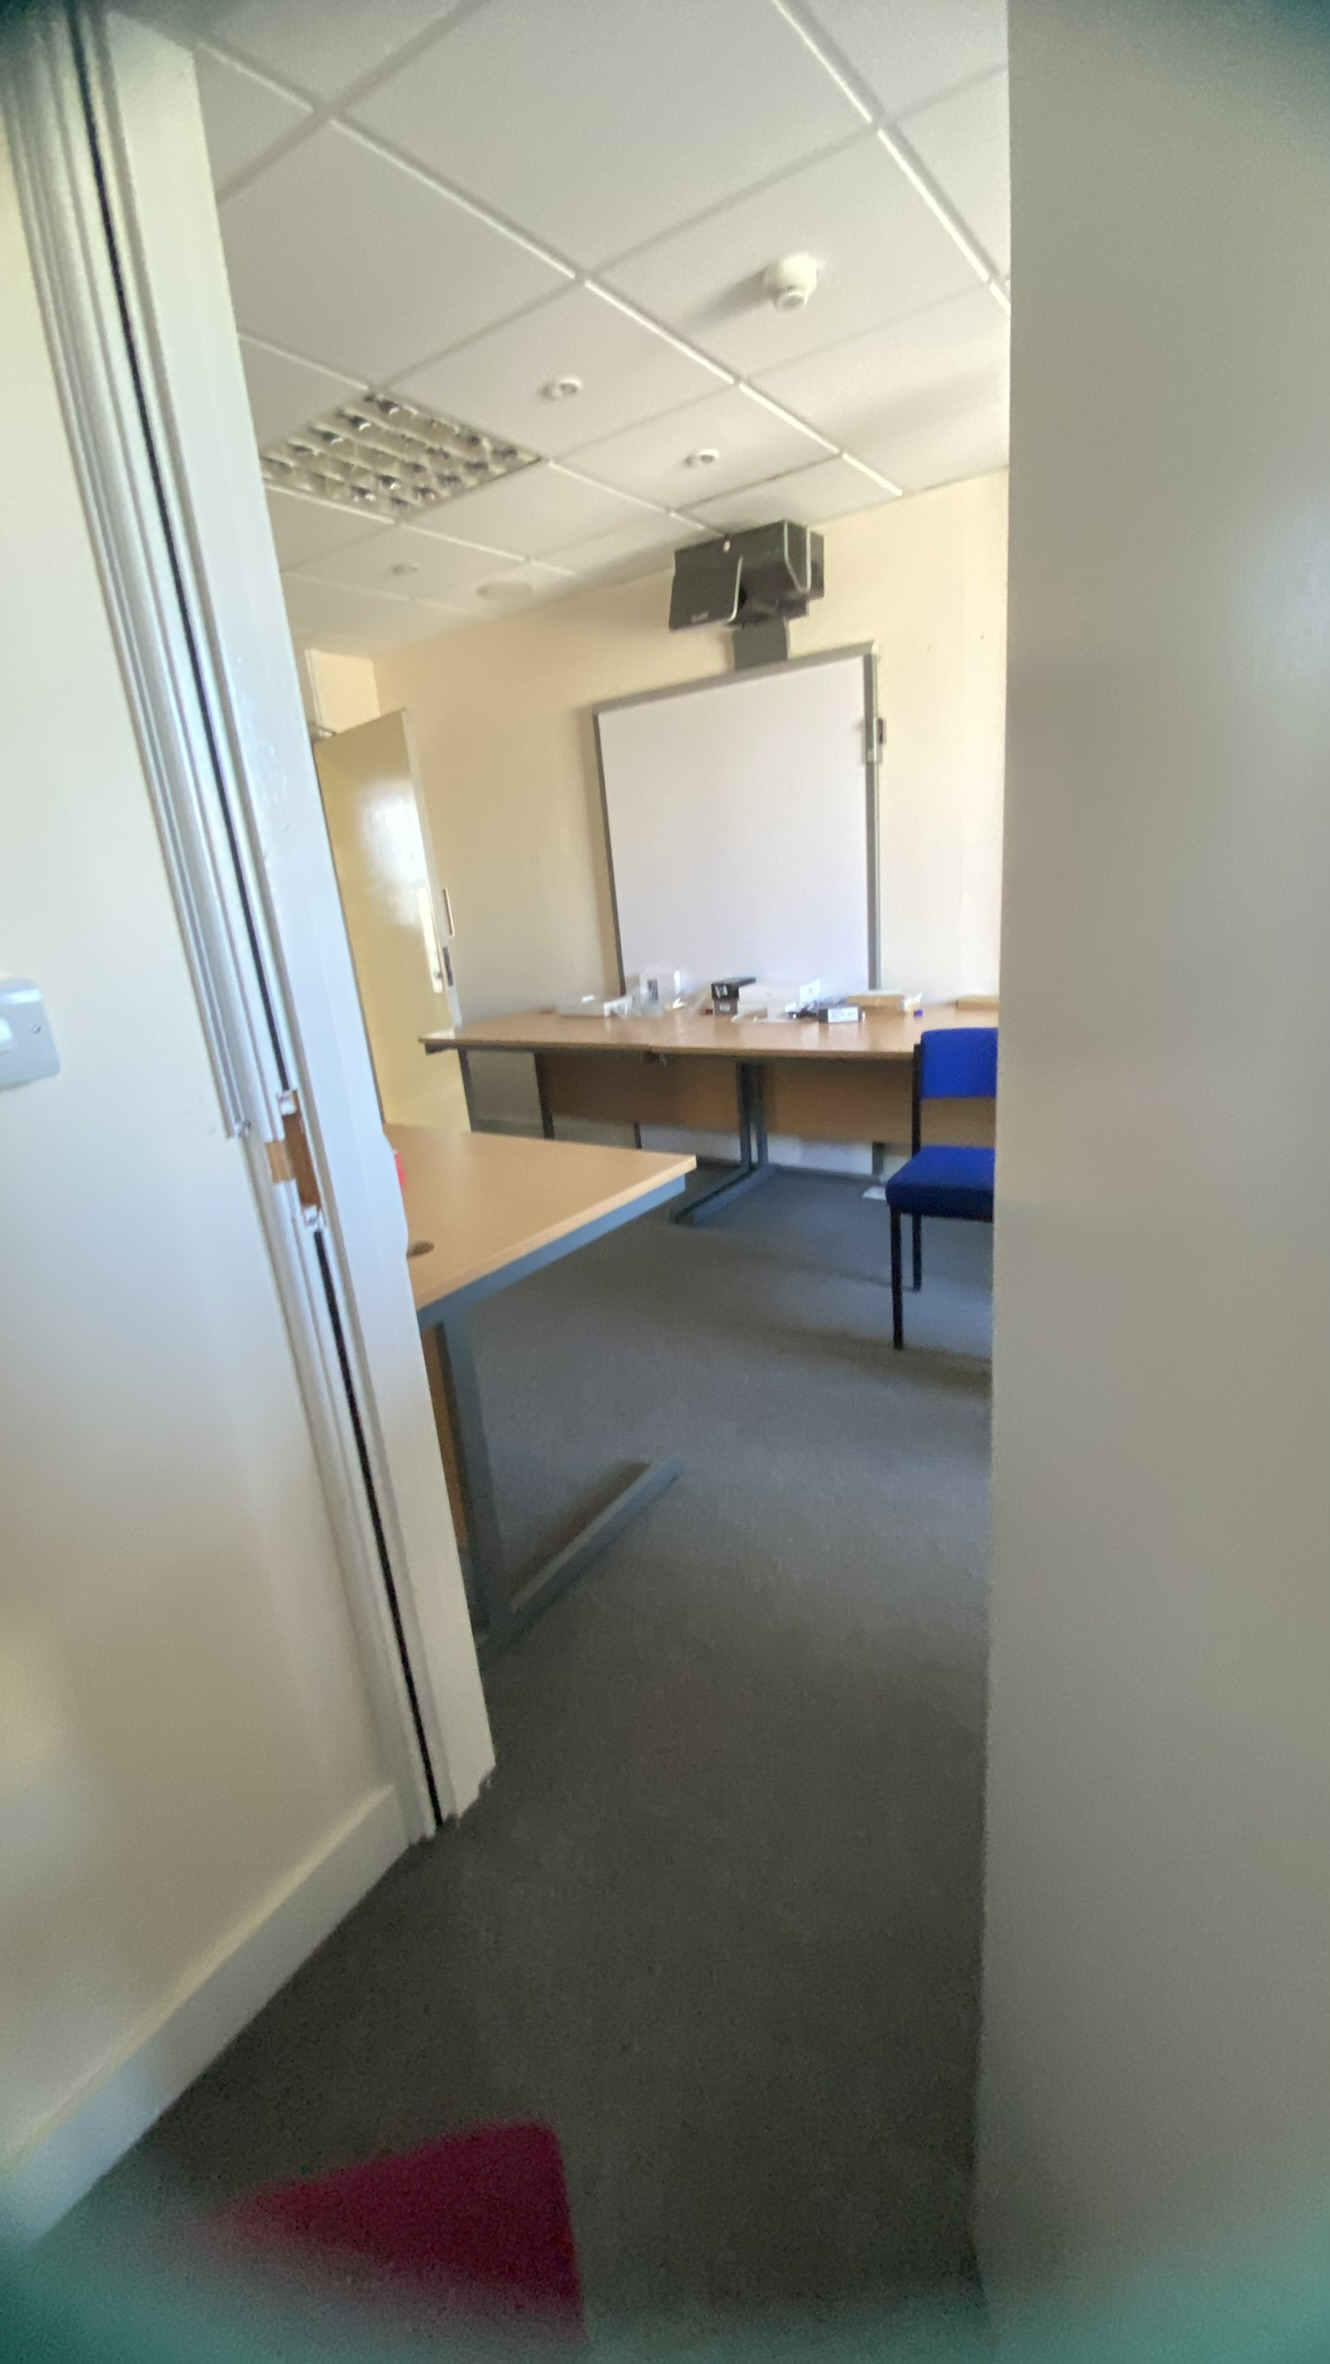ceiling: (201, 19, 1000, 529)
chair: (864, 1020, 987, 1421)
table: (356, 1028, 672, 1622), (440, 986, 1059, 1286)
whiteboard: (554, 666, 952, 994)
